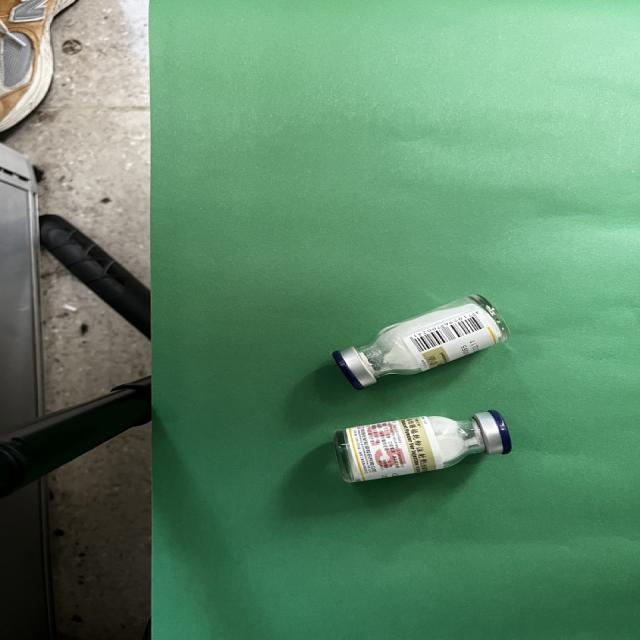Vials: (333, 295, 507, 389), (333, 410, 511, 482)
